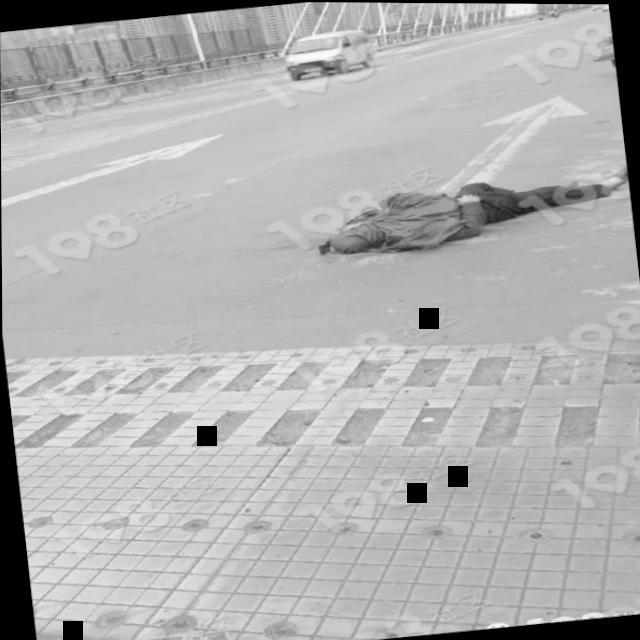Fall-Detected: (281, 146, 634, 269)
